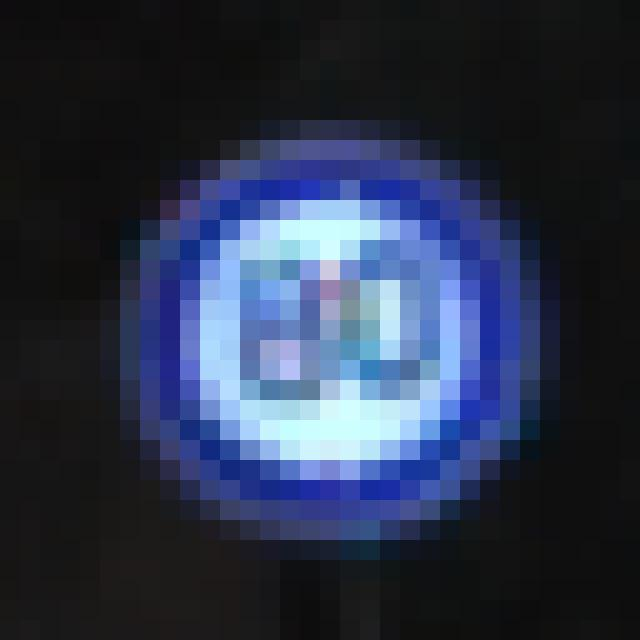SPEED-LIMIT-80: (119, 129, 546, 547)
